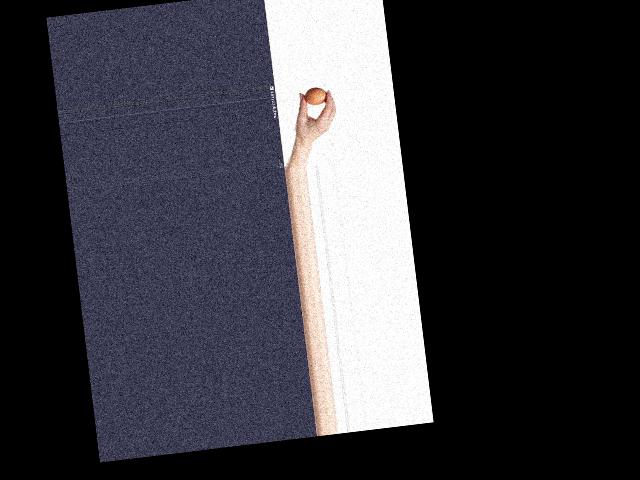egg: (303, 86, 327, 107)
